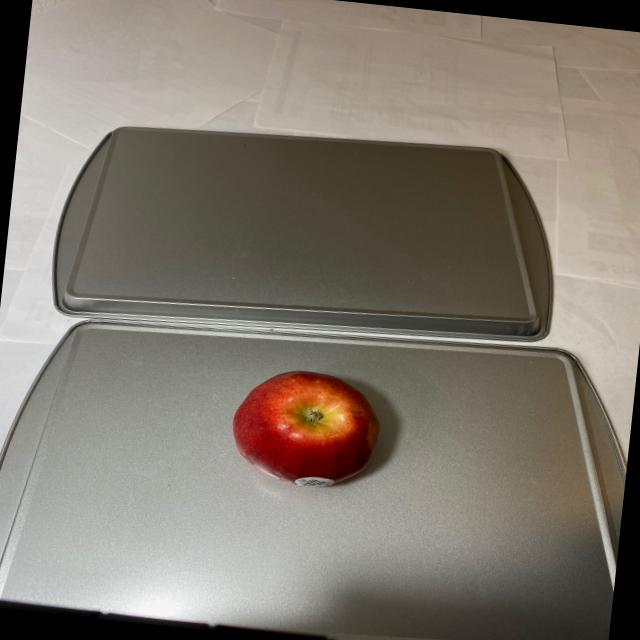apple: (224, 361, 390, 495)
